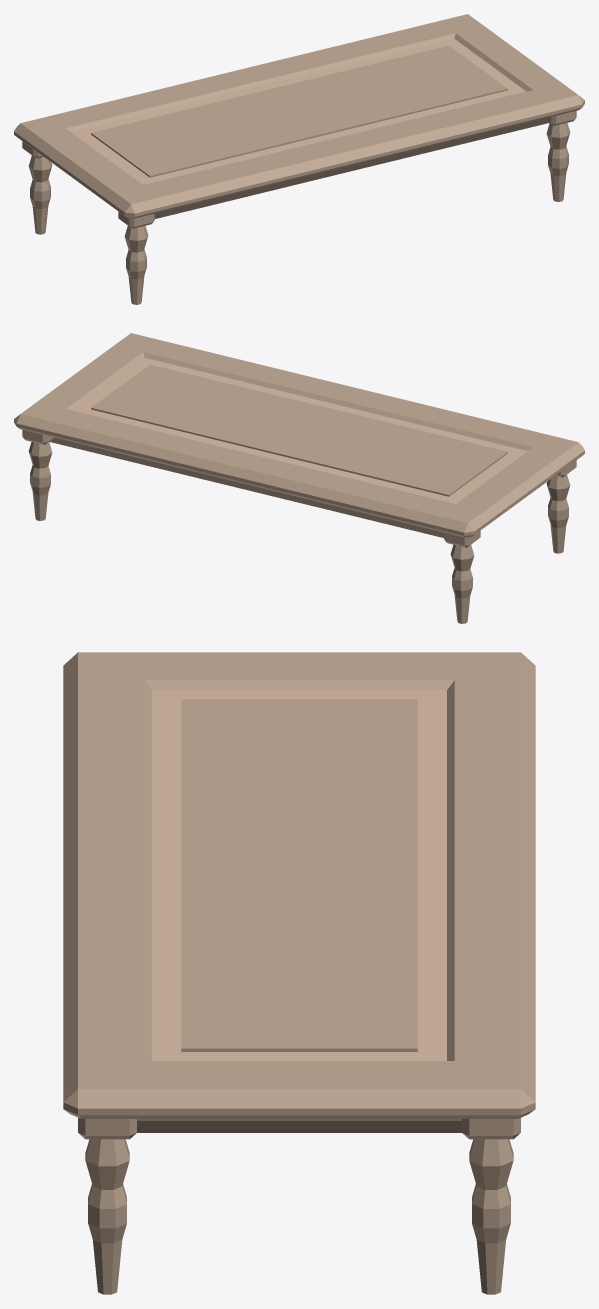
The model's file is Prop_Living_Room_Coffee_Table.fbx.
3 views of the same model, one above another, from view 1: azimuth 30°, elevation 25°; view 2: azimuth 150°, elevation 25°; view 3: azimuth 270°, elevation 25° (orthographic). The views are drawn at different scales.
Visible parts, largest first — view 1: object1.029; view 2: object1.029; view 3: object1.029.
Boxes of the visible parts, x1=… form: object1.029: x1=14, y1=14, x2=584, y2=304; object1.029: x1=14, y1=333, x2=584, y2=623; object1.029: x1=63, y1=652, x2=535, y2=1294.
Bounding box in the file's own units: 180 × 40 × 80.
